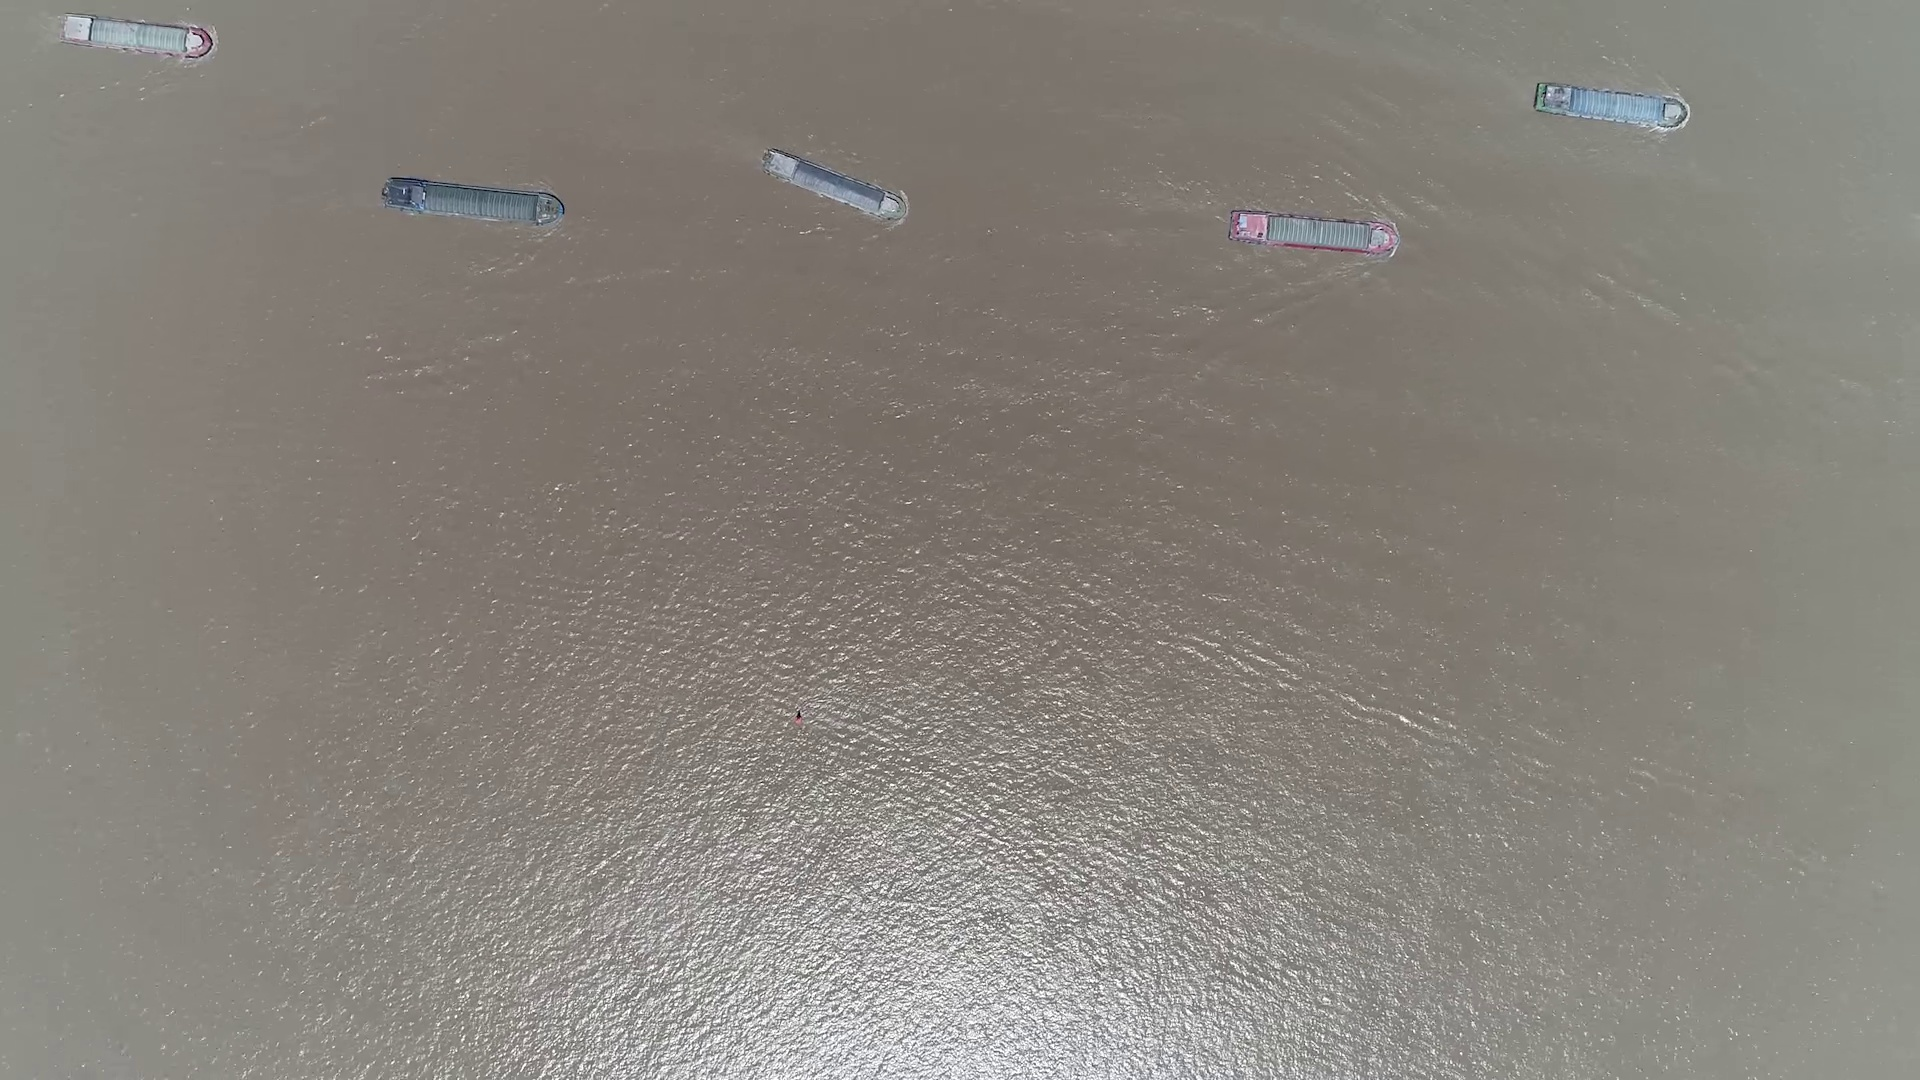ship: (760, 152, 907, 222), (380, 175, 562, 225), (1225, 212, 1399, 256), (61, 15, 214, 57), (1534, 86, 1684, 128)
